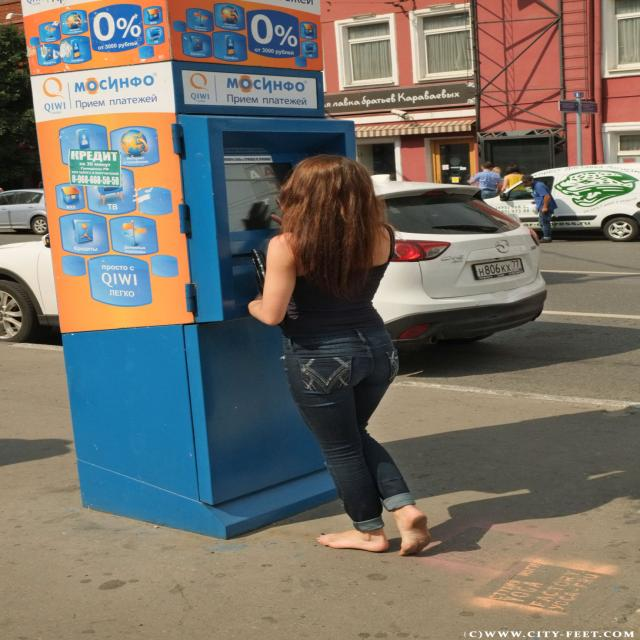Barefoots: (317, 530, 389, 552), (399, 510, 430, 556)
